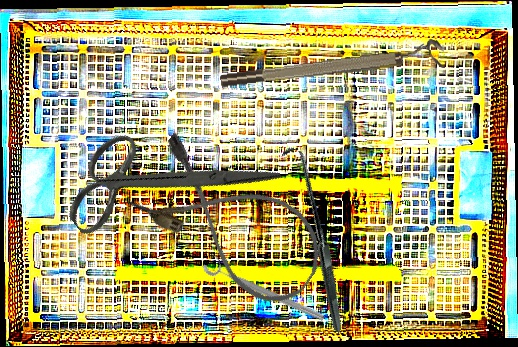Cannula: (123, 126, 339, 318)
Fixation Ring: (218, 37, 446, 92), (200, 251, 330, 325)
Hook Surgical: (220, 144, 406, 334)
Iris Scissors: (45, 68, 285, 297)
